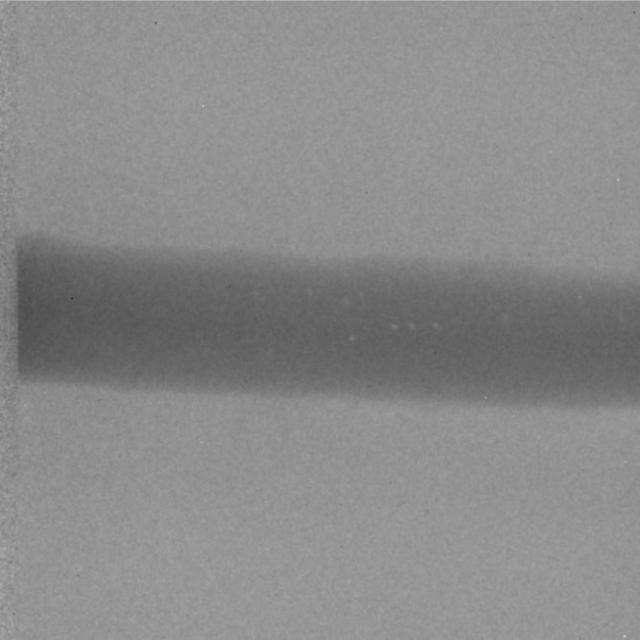air hole: (499, 310, 510, 321), (430, 318, 440, 330), (347, 330, 357, 341), (389, 320, 398, 331), (406, 318, 414, 330)
